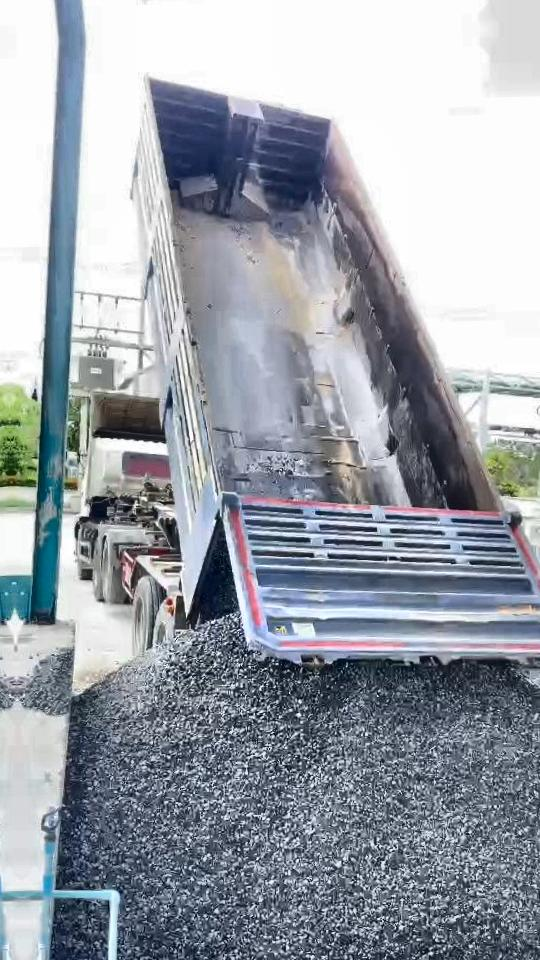gravel: (58, 615, 540, 960), (195, 526, 237, 625), (16, 649, 72, 714), (53, 903, 104, 960), (525, 662, 540, 740)
